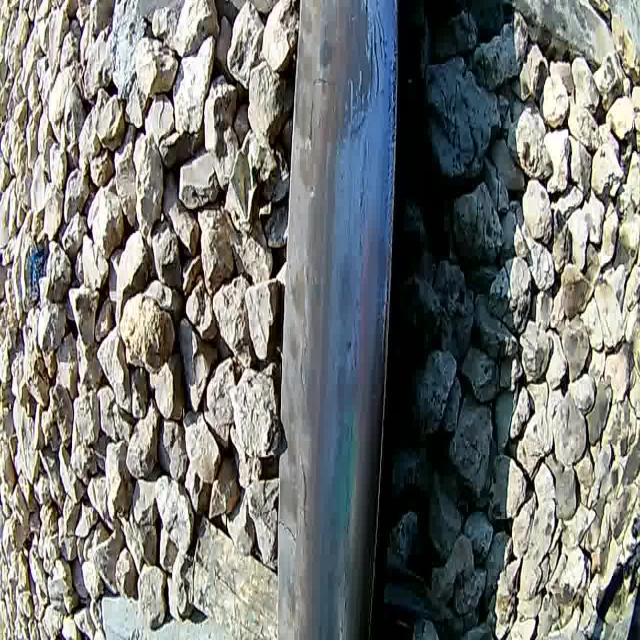Cracks: (353, 0, 389, 130)
Flakings: (382, 0, 404, 388)
Spallings: (295, 452, 317, 550), (275, 511, 301, 558)
Squats: (286, 1, 369, 277), (274, 245, 324, 522), (325, 248, 367, 457)
